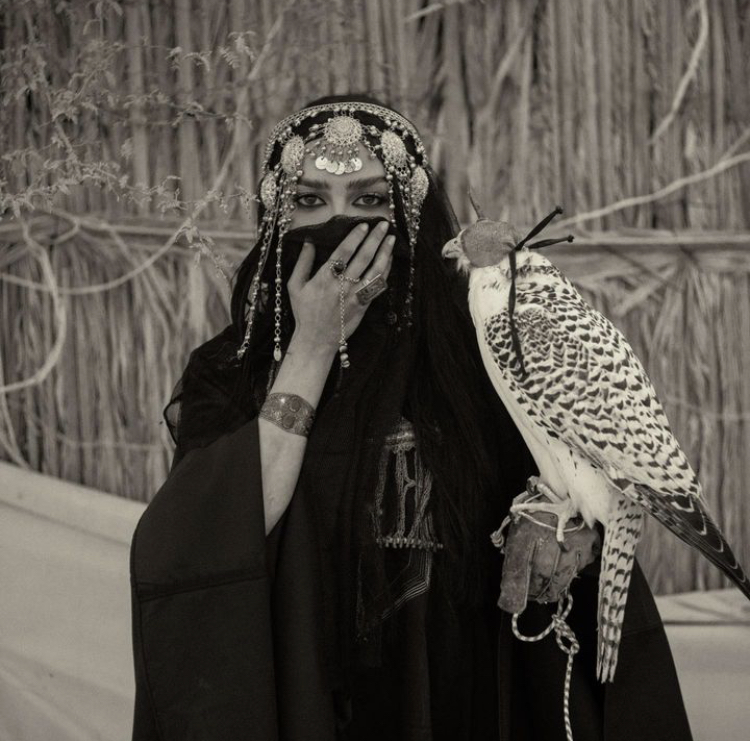Saudi_Founding_Day: (122, 86, 750, 741)
